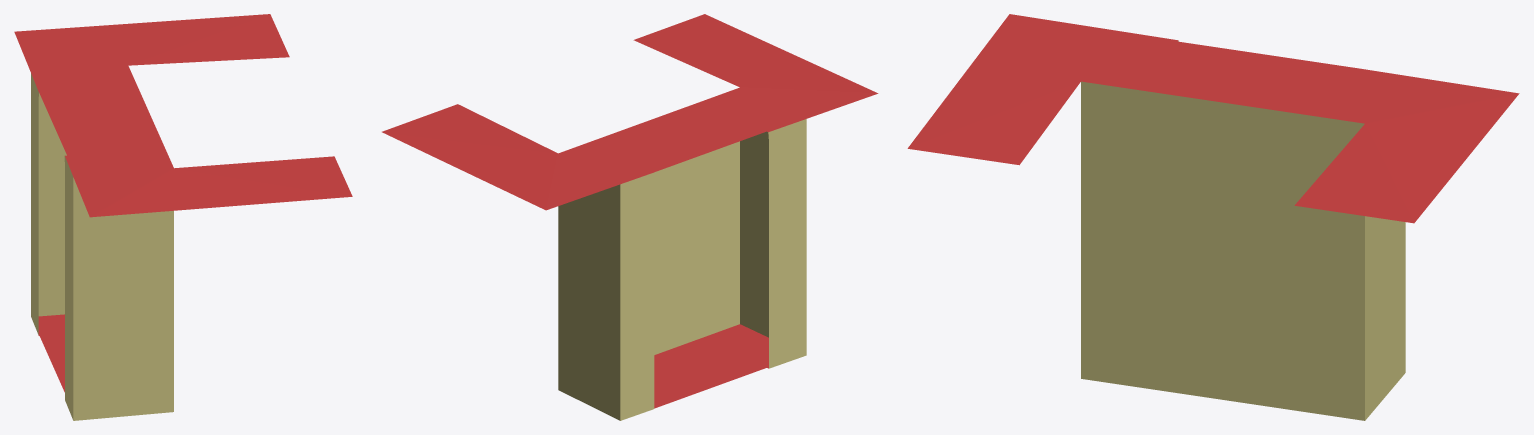
3 renders of one model, left to right at view 1: azimuth 30°, elevation 25°; view 2: azimuth 150°, elevation 25°; view 3: azimuth 270°, elevation 25°, orthographic. The views are drawn at different scales.
Size of the model in its own units: 14.67 by 18.41 by 9.87.
